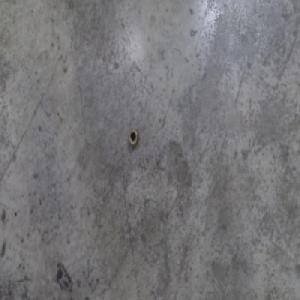Nut: (127, 127, 139, 148)
